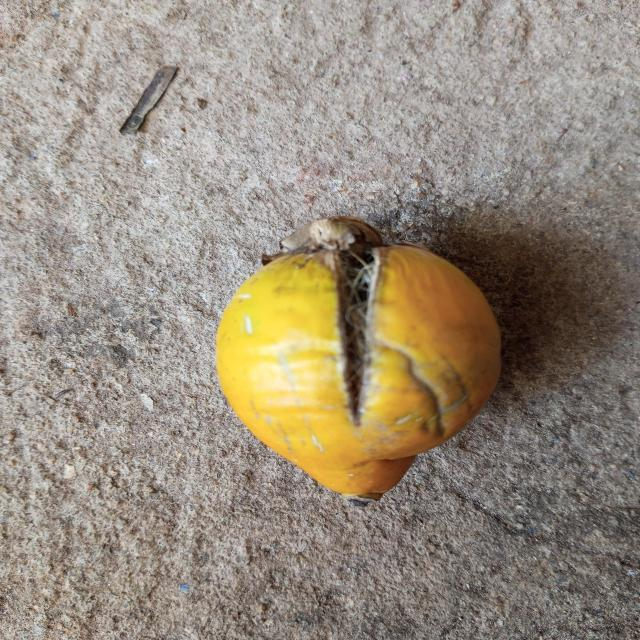damaged: (214, 217, 502, 501)
